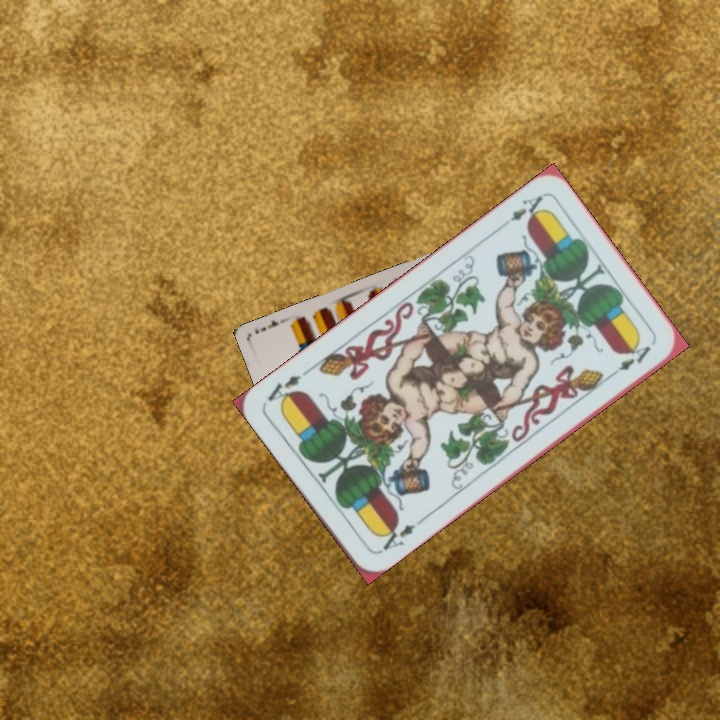EA: (495, 191, 546, 232), (374, 519, 418, 556)
